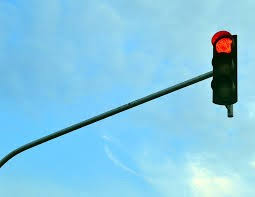red: (210, 29, 240, 108), (212, 35, 235, 102)
